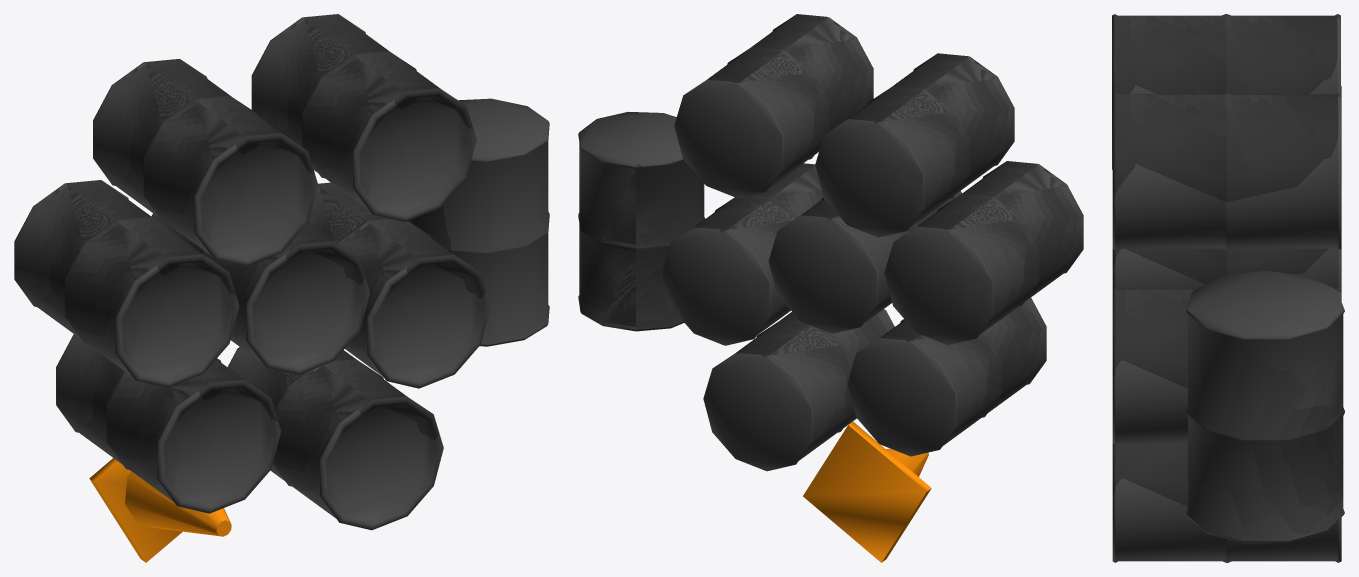
The model's file is oil_drums.fbx.
3 renders of one model, left to right at view 1: azimuth 30°, elevation 25°; view 2: azimuth 150°, elevation 25°; view 3: azimuth 270°, elevation 25°, orthographic. The views are drawn at different scales.
Parts seen in each view (by area): view 1: Cylinder05_03_-_Defau, Cylinder08_03_-_Defau, Cylinder09_03_-_Defau, Cylinder02_03_-_Defau, Cylinder01_03_-_Defau, Cylinder10_03_-_Defau, Cylinder06_03_-_Defau, Cylinder04_03_-_Defau, Box01_01_-_Default; view 2: Cylinder08_03_-_Defau, Cylinder05_03_-_Defau, Cylinder09_03_-_Defau, Cylinder10_03_-_Defau, Cylinder02_03_-_Defau, Cylinder01_03_-_Defau, Cylinder06_03_-_Defau, Cylinder04_03_-_Defau, Box01_01_-_Default; view 3: Cylinder10_03_-_Defau, Cylinder09_03_-_Defau, Cylinder08_03_-_Defau, Cylinder01_03_-_Defau, Cylinder06_03_-_Defau, Cylinder04_03_-_Defau.
Boxes of the visible parts, x1,y1,x2,y2 form: Cylinder05_03_-_Defau: (14, 180, 239, 387); Cylinder08_03_-_Defau: (93, 59, 317, 266); Cylinder09_03_-_Defau: (251, 14, 476, 221); Cylinder02_03_-_Defau: (56, 334, 281, 513); Cylinder01_03_-_Defau: (227, 347, 443, 530); Cylinder10_03_-_Defau: (408, 98, 549, 346); Cylinder06_03_-_Defau: (308, 182, 490, 388); Cylinder04_03_-_Defau: (151, 213, 369, 374); Box01_01_-_Default: (89, 458, 231, 562); Cylinder08_03_-_Defau: (815, 53, 1014, 237); Cylinder05_03_-_Defau: (884, 161, 1083, 345); Cylinder09_03_-_Defau: (674, 14, 873, 198); Cylinder10_03_-_Defau: (578, 111, 705, 331); Cylinder02_03_-_Defau: (847, 298, 1046, 456); Cylinder01_03_-_Defau: (703, 309, 894, 471); Cylinder06_03_-_Defau: (661, 163, 823, 345); Cylinder04_03_-_Defau: (768, 191, 961, 333); Box01_01_-_Default: (803, 421, 931, 562); Cylinder10_03_-_Defau: (1186, 270, 1344, 543); Cylinder09_03_-_Defau: (1112, 93, 1341, 250); Cylinder08_03_-_Defau: (1112, 14, 1340, 169); Cylinder01_03_-_Defau: (1112, 443, 1341, 562); Cylinder06_03_-_Defau: (1112, 287, 1341, 444); Cylinder04_03_-_Defau: (1112, 177, 1341, 289).
Size of the model in its own units: 70 by 68.25 by 26.06.
Materials: 2 (2 with a texture image).
